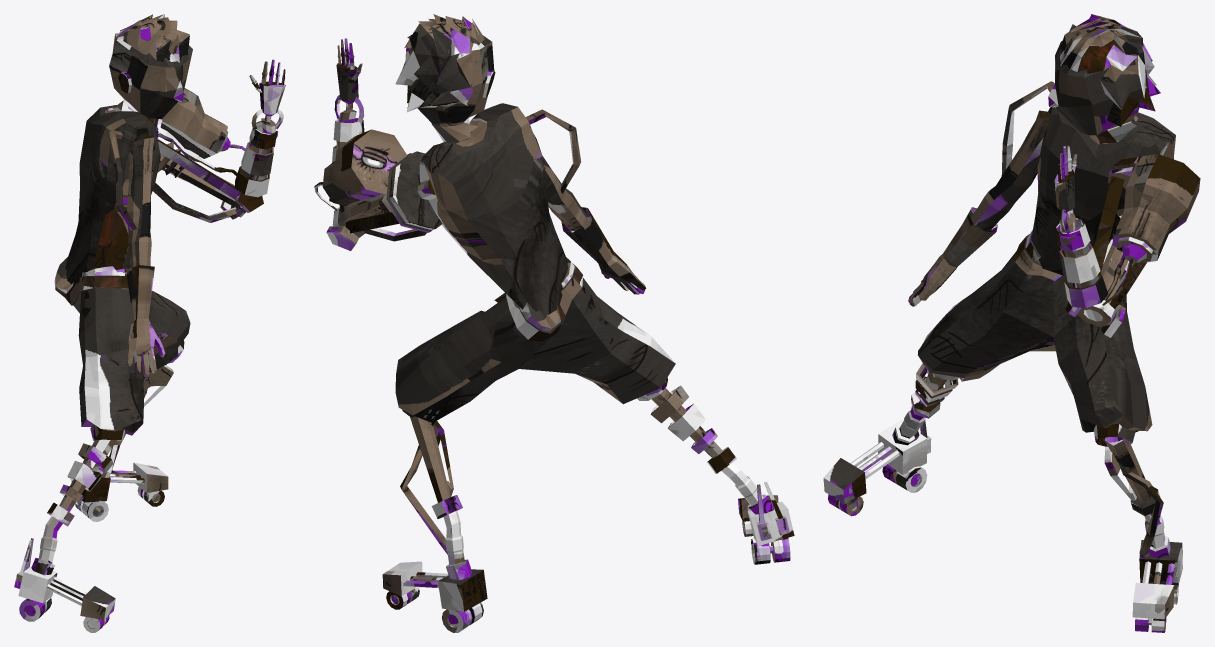
The model's file is CyborgFINALAnimation_000015.obj.
The picture shows the model from 3 angles, left to right: view 1: azimuth 30°, elevation 25°; view 2: azimuth 150°, elevation 25°; view 3: azimuth 270°, elevation 25°; orthographic projection. The views are drawn at different scales.
Parts seen in each view (by area): view 1: CyborgMesh_Cube.002; view 2: CyborgMesh_Cube.002; view 3: CyborgMesh_Cube.002.
Part boxes in pixels (left/top/right/bottom): CyborgMesh_Cube.002: left=14, top=14, right=285, bottom=632; CyborgMesh_Cube.002: left=314, top=14, right=794, bottom=632; CyborgMesh_Cube.002: left=823, top=14, right=1200, bottom=632.
Size of the model in its own units: 5.95 by 8.62 by 4.88.
